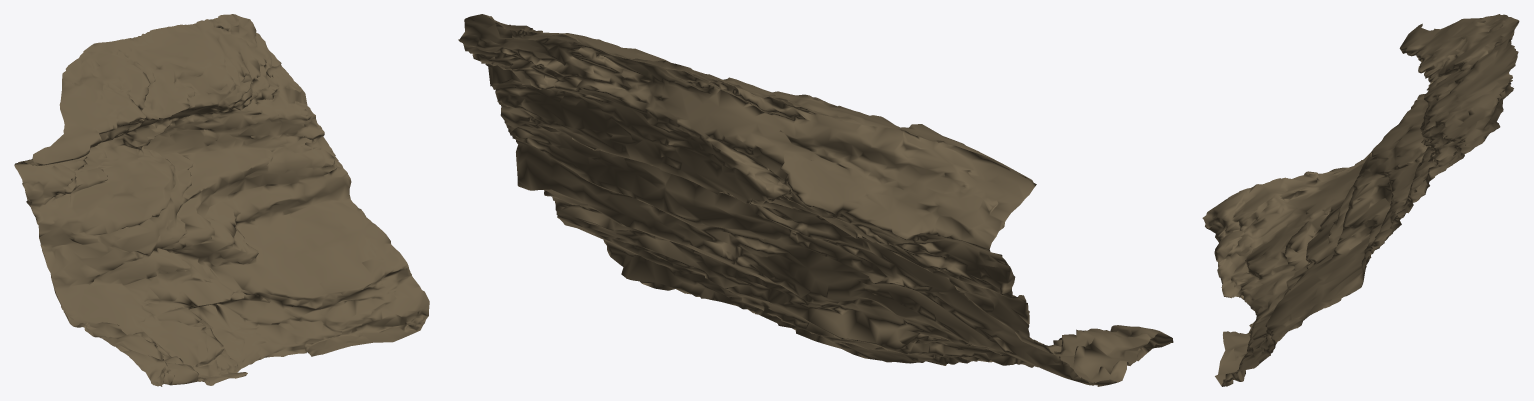
Rendered from rock_face_01-lod0.glb.
The picture shows the model from 3 angles, left to right: view 1: azimuth 30°, elevation 25°; view 2: azimuth 150°, elevation 25°; view 3: azimuth 270°, elevation 25°; orthographic projection. The views are drawn at different scales.
Visible parts, largest first — view 1: rock_face_01; view 2: rock_face_01; view 3: rock_face_01.
Boxes of the visible parts, bbox=[...] form: rock_face_01: bbox=[14, 14, 429, 386]; rock_face_01: bbox=[458, 14, 1173, 386]; rock_face_01: bbox=[1202, 14, 1519, 386].
Size of the model in its own units: 4.95 by 3.56 by 3.83.
